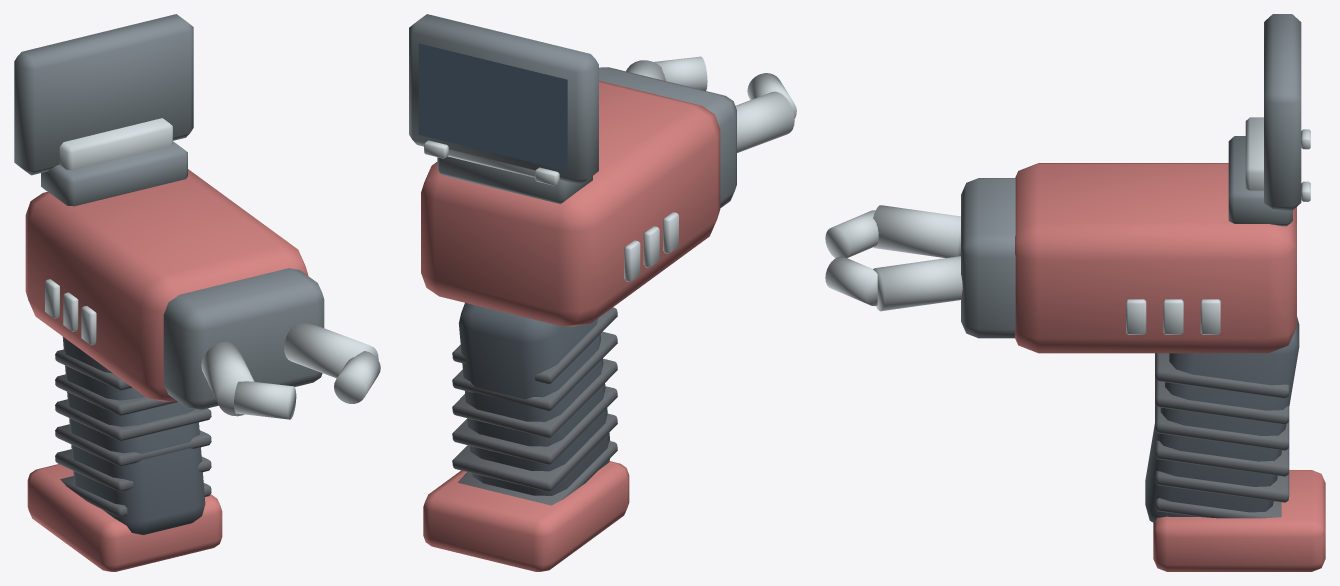
Rendered from dismantler_ultra.glb.
The picture shows the model from 3 angles, left to right: view 1: azimuth 30°, elevation 25°; view 2: azimuth 150°, elevation 25°; view 3: azimuth 270°, elevation 25°; orthographic projection. The views are drawn at different scales.
Visible parts, largest first — view 1: ToolBody_darkred, LiveViewSurfaceFrame_frame, NoseHousing_frame, Grip_black, Battery_darkred, GripRib_rubber, Jaw_steel, DisplayMount_frame, JawTip_steel, DisplayBracket_steel, HousingVent_steel; view 2: ToolBody_darkred, Grip_black, LiveViewSurface_glass, Battery_darkred, GripRib_rubber, LiveViewSurfaceFrame_frame, NoseHousing_frame, Jaw_steel, DisplayMount_frame, JawTip_steel, HousingVent_steel, DisplayControls_steel (+1 smaller); view 3: ToolBody_darkred, Grip_black, Battery_darkred, GripRib_rubber, NoseHousing_frame, Jaw_steel, LiveViewSurfaceFrame_frame, JawTip_steel, DisplayMount_frame, HousingVent_steel, DisplayBracket_steel.
Part boxes in pixels (x1=…): ToolBody_darkred: x1=25, y1=169, x2=308, y2=401; LiveViewSurfaceFrame_frame: x1=14, y1=14, x2=193, y2=175; NoseHousing_frame: x1=163, y1=268, x2=324, y2=409; Grip_black: x1=62, y1=337, x2=205, y2=534; Battery_darkred: x1=27, y1=464, x2=222, y2=571; GripRib_rubber: x1=55, y1=349, x2=211, y2=517; Jaw_steel: x1=201, y1=322, x2=378, y2=416; DisplayMount_frame: x1=41, y1=141, x2=187, y2=206; JawTip_steel: x1=234, y1=351, x2=380, y2=419; DisplayBracket_steel: x1=59, y1=118, x2=172, y2=170; HousingVent_steel: x1=45, y1=279, x2=96, y2=345; ToolBody_darkred: x1=421, y1=80, x2=720, y2=326; Grip_black: x1=458, y1=303, x2=610, y2=495; LiveViewSurface_glass: x1=418, y1=43, x2=567, y2=170; Battery_darkred: x1=423, y1=461, x2=629, y2=571; GripRib_rubber: x1=452, y1=307, x2=617, y2=505; LiveViewSurfaceFrame_frame: x1=409, y1=14, x2=598, y2=184; NoseHousing_frame: x1=599, y1=67, x2=736, y2=207; Jaw_steel: x1=626, y1=60, x2=794, y2=152; DisplayMount_frame: x1=437, y1=156, x2=592, y2=204; JawTip_steel: x1=654, y1=56, x2=796, y2=118; HousingVent_steel: x1=624, y1=212, x2=678, y2=281; DisplayControls_steel: x1=424, y1=140, x2=559, y2=185; ToolBody_darkred: x1=1015, y1=163, x2=1296, y2=353; Grip_black: x1=1145, y1=317, x2=1299, y2=522; Battery_darkred: x1=1153, y1=470, x2=1325, y2=571; GripRib_rubber: x1=1155, y1=353, x2=1289, y2=518; NoseHousing_frame: x1=961, y1=178, x2=1015, y2=338; Jaw_steel: x1=873, y1=205, x2=962, y2=311; LiveViewSurfaceFrame_frame: x1=1264, y1=14, x2=1301, y2=210; JawTip_steel: x1=825, y1=210, x2=878, y2=305; DisplayMount_frame: x1=1228, y1=136, x2=1292, y2=226; HousingVent_steel: x1=1126, y1=299, x2=1220, y2=334; DisplayBracket_steel: x1=1245, y1=117, x2=1263, y2=190.
Size of the model in its own units: 0.371 by 0.95 by 0.8712.
